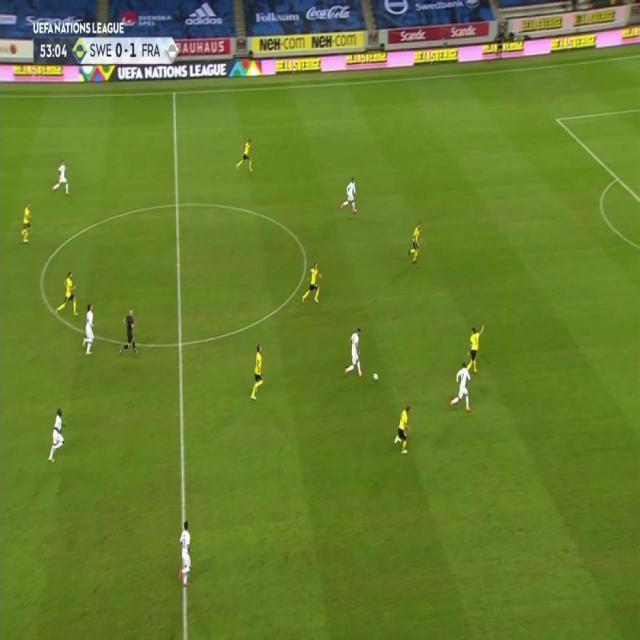ball: (373, 371, 380, 383)
player: (46, 406, 68, 464), (176, 519, 194, 588), (449, 360, 472, 414), (344, 326, 366, 381), (393, 403, 413, 455), (249, 342, 266, 402), (58, 270, 80, 316), (301, 261, 323, 307), (466, 323, 485, 375), (81, 303, 96, 356), (406, 219, 424, 263), (52, 157, 71, 196), (340, 175, 359, 214), (236, 135, 255, 172), (20, 200, 33, 245)
referee: (119, 308, 138, 356)
